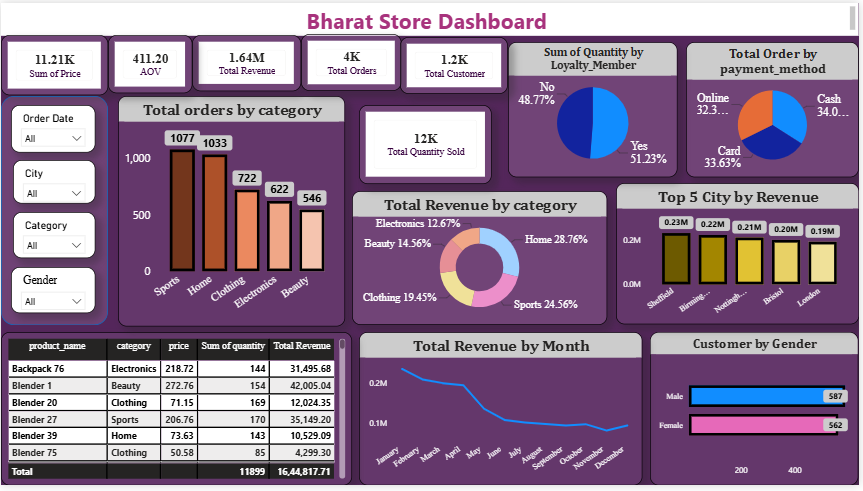

What the dashboard file says about the page in this screenshot:
{"tool":"powerbi","page":{"name":"Page 1","canvas":[1280,720],"ordinal":0},"visuals":[{"type":"clusteredColumnChart","fields":{"Category":["products.category"],"Y":["CountNonNull(orders.order_id)"]},"box":[174.2,138.7,338.7,343.5],"z":0},{"type":"textbox","box":[0,0,1280,48.6],"z":1000},{"type":"clusteredBarChart","title":"Customer by Gender","fields":{"Category":["customers (1).gender"],"Y":["Count(orders.customer_id)"]},"box":[969.4,490.3,311.3,229],"z":2000},{"type":"pieChart","fields":{"Category":["orders.payment_method"],"Y":["customers (1).Total Order"]},"box":[1022.6,58.1,258.1,201.6],"z":3000},{"type":"donutChart","fields":{"Category":["products.category"],"Y":["customers (1).Total Revenue"]},"box":[524.2,280.6,380.6,200],"z":4000},{"type":"cardVisual","fields":{"Data":["Sum(products.price)"]},"box":[0,48.4,159.7,90.3],"z":5000},{"type":"clusteredColumnChart","title":"Top 5 City by Revenue","fields":{"Category":["customers (1).city"],"Y":["customers (1).Total Revenue"]},"box":[917.7,269.4,362.9,211.3],"z":6000},{"type":"pieChart","title":"Sum of Quantity by Loyalty_Member","fields":{"Category":["customers (1).loyalty_member"],"Y":["Sum(orders.quantity)"]},"box":[756.5,58.1,253.2,201.6],"z":7000},{"type":"cardVisual","fields":{"Data":["customers (1).Total Revenue"]},"box":[285.5,48.4,162.9,83.9],"z":8000},{"type":"cardVisual","fields":{"Data":["customers (1).Total Order"]},"box":[448.4,46.8,150,85.5],"z":9000},{"type":"cardVisual","fields":{"Data":["customers (1).Average Order Value"]},"box":[159.7,48.4,125.8,87.1],"z":10000},{"type":"shape","box":[0,138.7,159.7,341.9],"z":11000},{"type":"lineChart","fields":{"Category":["orders.order_date.Variation.Date Hierarchy.Month"],"Y":["customers (1).Total Revenue"]},"box":[533.9,490.3,422.6,229],"z":12000},{"type":"slicer","fields":{"Values":["orders.order_date"]},"box":[14.5,151.6,125.8,71],"z":13000},{"type":"slicer","fields":{"Values":["customers (1).city"]},"box":[17.7,233.9,122.6,64.5],"z":14000},{"type":"slicer","fields":{"Values":["products.category"]},"box":[17.7,311.3,122.6,69.4],"z":15000},{"type":"slicer","fields":{"Values":["customers (1).gender"]},"box":[14.5,393.5,125.8,69.4],"z":16000},{"type":"tableEx","fields":{"Values":["products.product_name","products.category","products.price","Sum(orders.quantity)","customers (1).Total Revenue"]},"box":[0,490.3,524.2,229],"z":17000},{"type":"cardVisual","fields":{"Data":["Count(customers (1).customer_id)"]},"box":[595.2,50,161.3,85.5],"z":18000},{"type":"cardVisual","fields":{"Data":["Sum(orders.quantity)"]},"box":[533.9,151.6,198.4,117.7],"z":18001}]}

Visuals, with their boxes in screenshot pixels (x1, y1, x2, y2), scaled from the page's 1280x720 canvas onto the 863x491 screenshot:
clusteredColumnChart - products.category x CountNonNull(orders.order_id): [117, 95, 346, 329]
textbox: [0, 0, 862, 33]
"Customer by Gender" clusteredBarChart: [654, 334, 862, 490]
pieChart - orders.payment_method x customers (1).Total Order: [689, 40, 862, 177]
donutChart - products.category x customers (1).Total Revenue: [353, 191, 610, 328]
cardVisual - Sum(products.price): [0, 33, 108, 95]
"Top 5 City by Revenue" clusteredColumnChart: [619, 184, 862, 328]
"Sum of Quantity by Loyalty_Member" pieChart: [510, 40, 681, 177]
cardVisual - customers (1).Total Revenue: [192, 33, 302, 90]
cardVisual - customers (1).Total Order: [302, 32, 403, 90]
cardVisual - customers (1).Average Order Value: [108, 33, 192, 92]
shape: [0, 95, 108, 328]
lineChart - orders.order_date.Variation.Date Hierarchy.Month x customers (1).Total Revenue: [360, 334, 645, 490]
slicer - orders.order_date: [10, 103, 95, 152]
slicer - customers (1).city: [12, 160, 95, 203]
slicer - products.category: [12, 212, 95, 260]
slicer - customers (1).gender: [10, 268, 95, 316]
tableEx - products.product_name x products.category: [0, 334, 353, 490]
cardVisual - Count(customers (1).customer_id): [401, 34, 510, 92]
cardVisual - Sum(orders.quantity): [360, 103, 494, 184]
